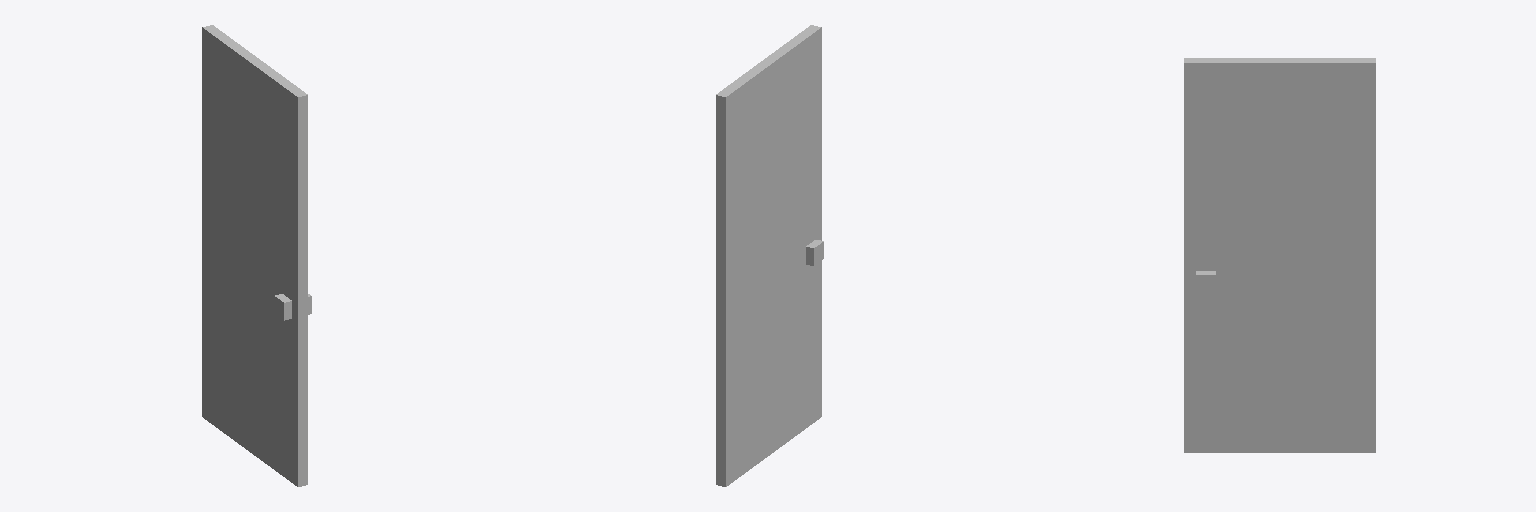
File: Door_Type1.obj
The picture shows the model from 3 angles: view 1: azimuth 30°, elevation 25°; view 2: azimuth 150°, elevation 25°; view 3: azimuth 270°, elevation 25°; orthographic projection.
Parts seen in each view (by area): view 1: Door_Type1_Cube.116; view 2: Door_Type1_Cube.116; view 3: Door_Type1_Cube.116.
Boxes of the visible parts, x1,y1,x2,y2 form: Door_Type1_Cube.116: [202, 25, 311, 486]; Door_Type1_Cube.116: [716, 25, 823, 486]; Door_Type1_Cube.116: [1184, 58, 1375, 452].
Size of the model in its own units: 0.1671 by 2.25 by 1.